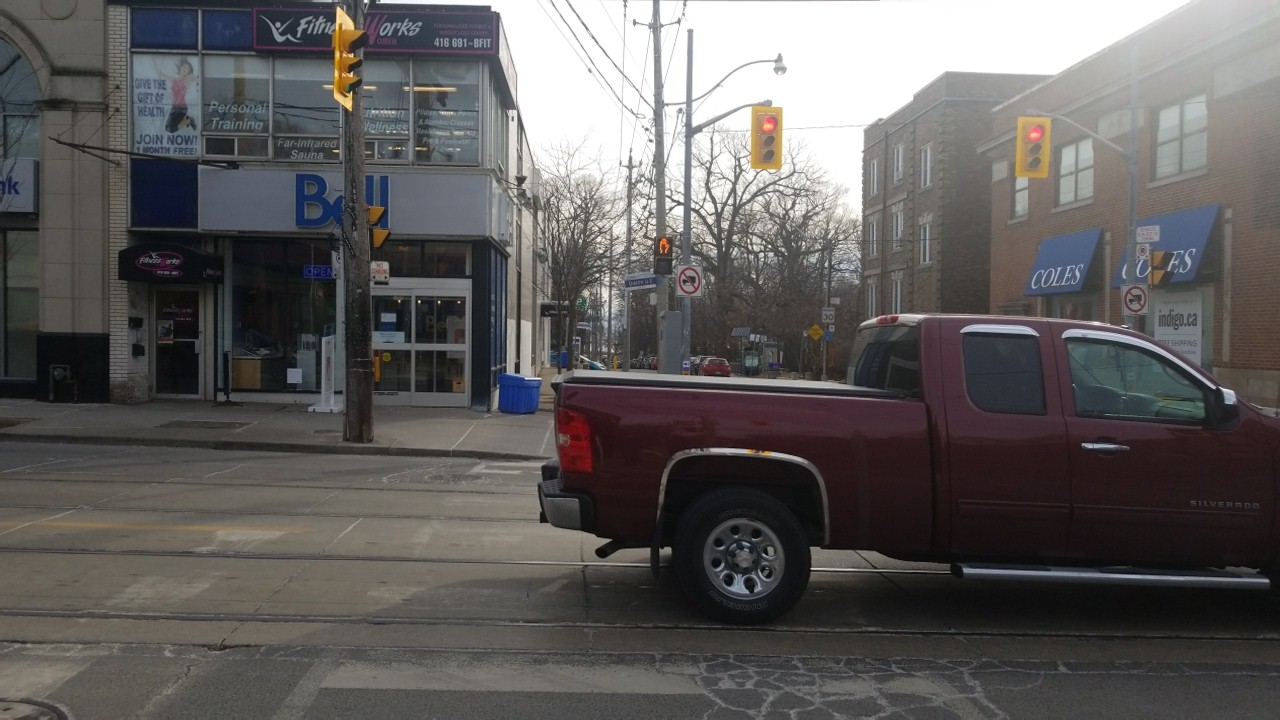light: (651, 234, 676, 277)
